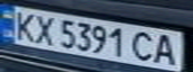1: (106, 25, 130, 57)
3: (72, 20, 93, 53)
5: (54, 17, 78, 50)
9: (87, 22, 109, 55)
A: (151, 32, 184, 66)
C: (127, 29, 160, 63)
K: (9, 8, 39, 43)
X: (30, 12, 60, 46)
